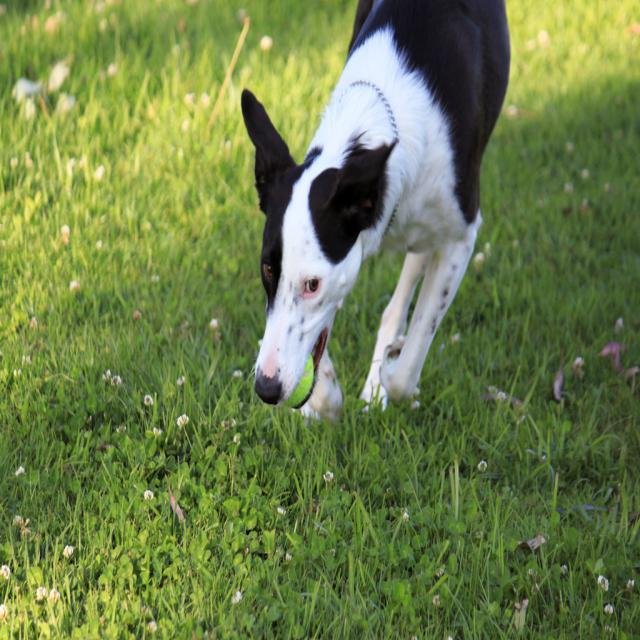Tennis ball: (284, 354, 314, 408)
